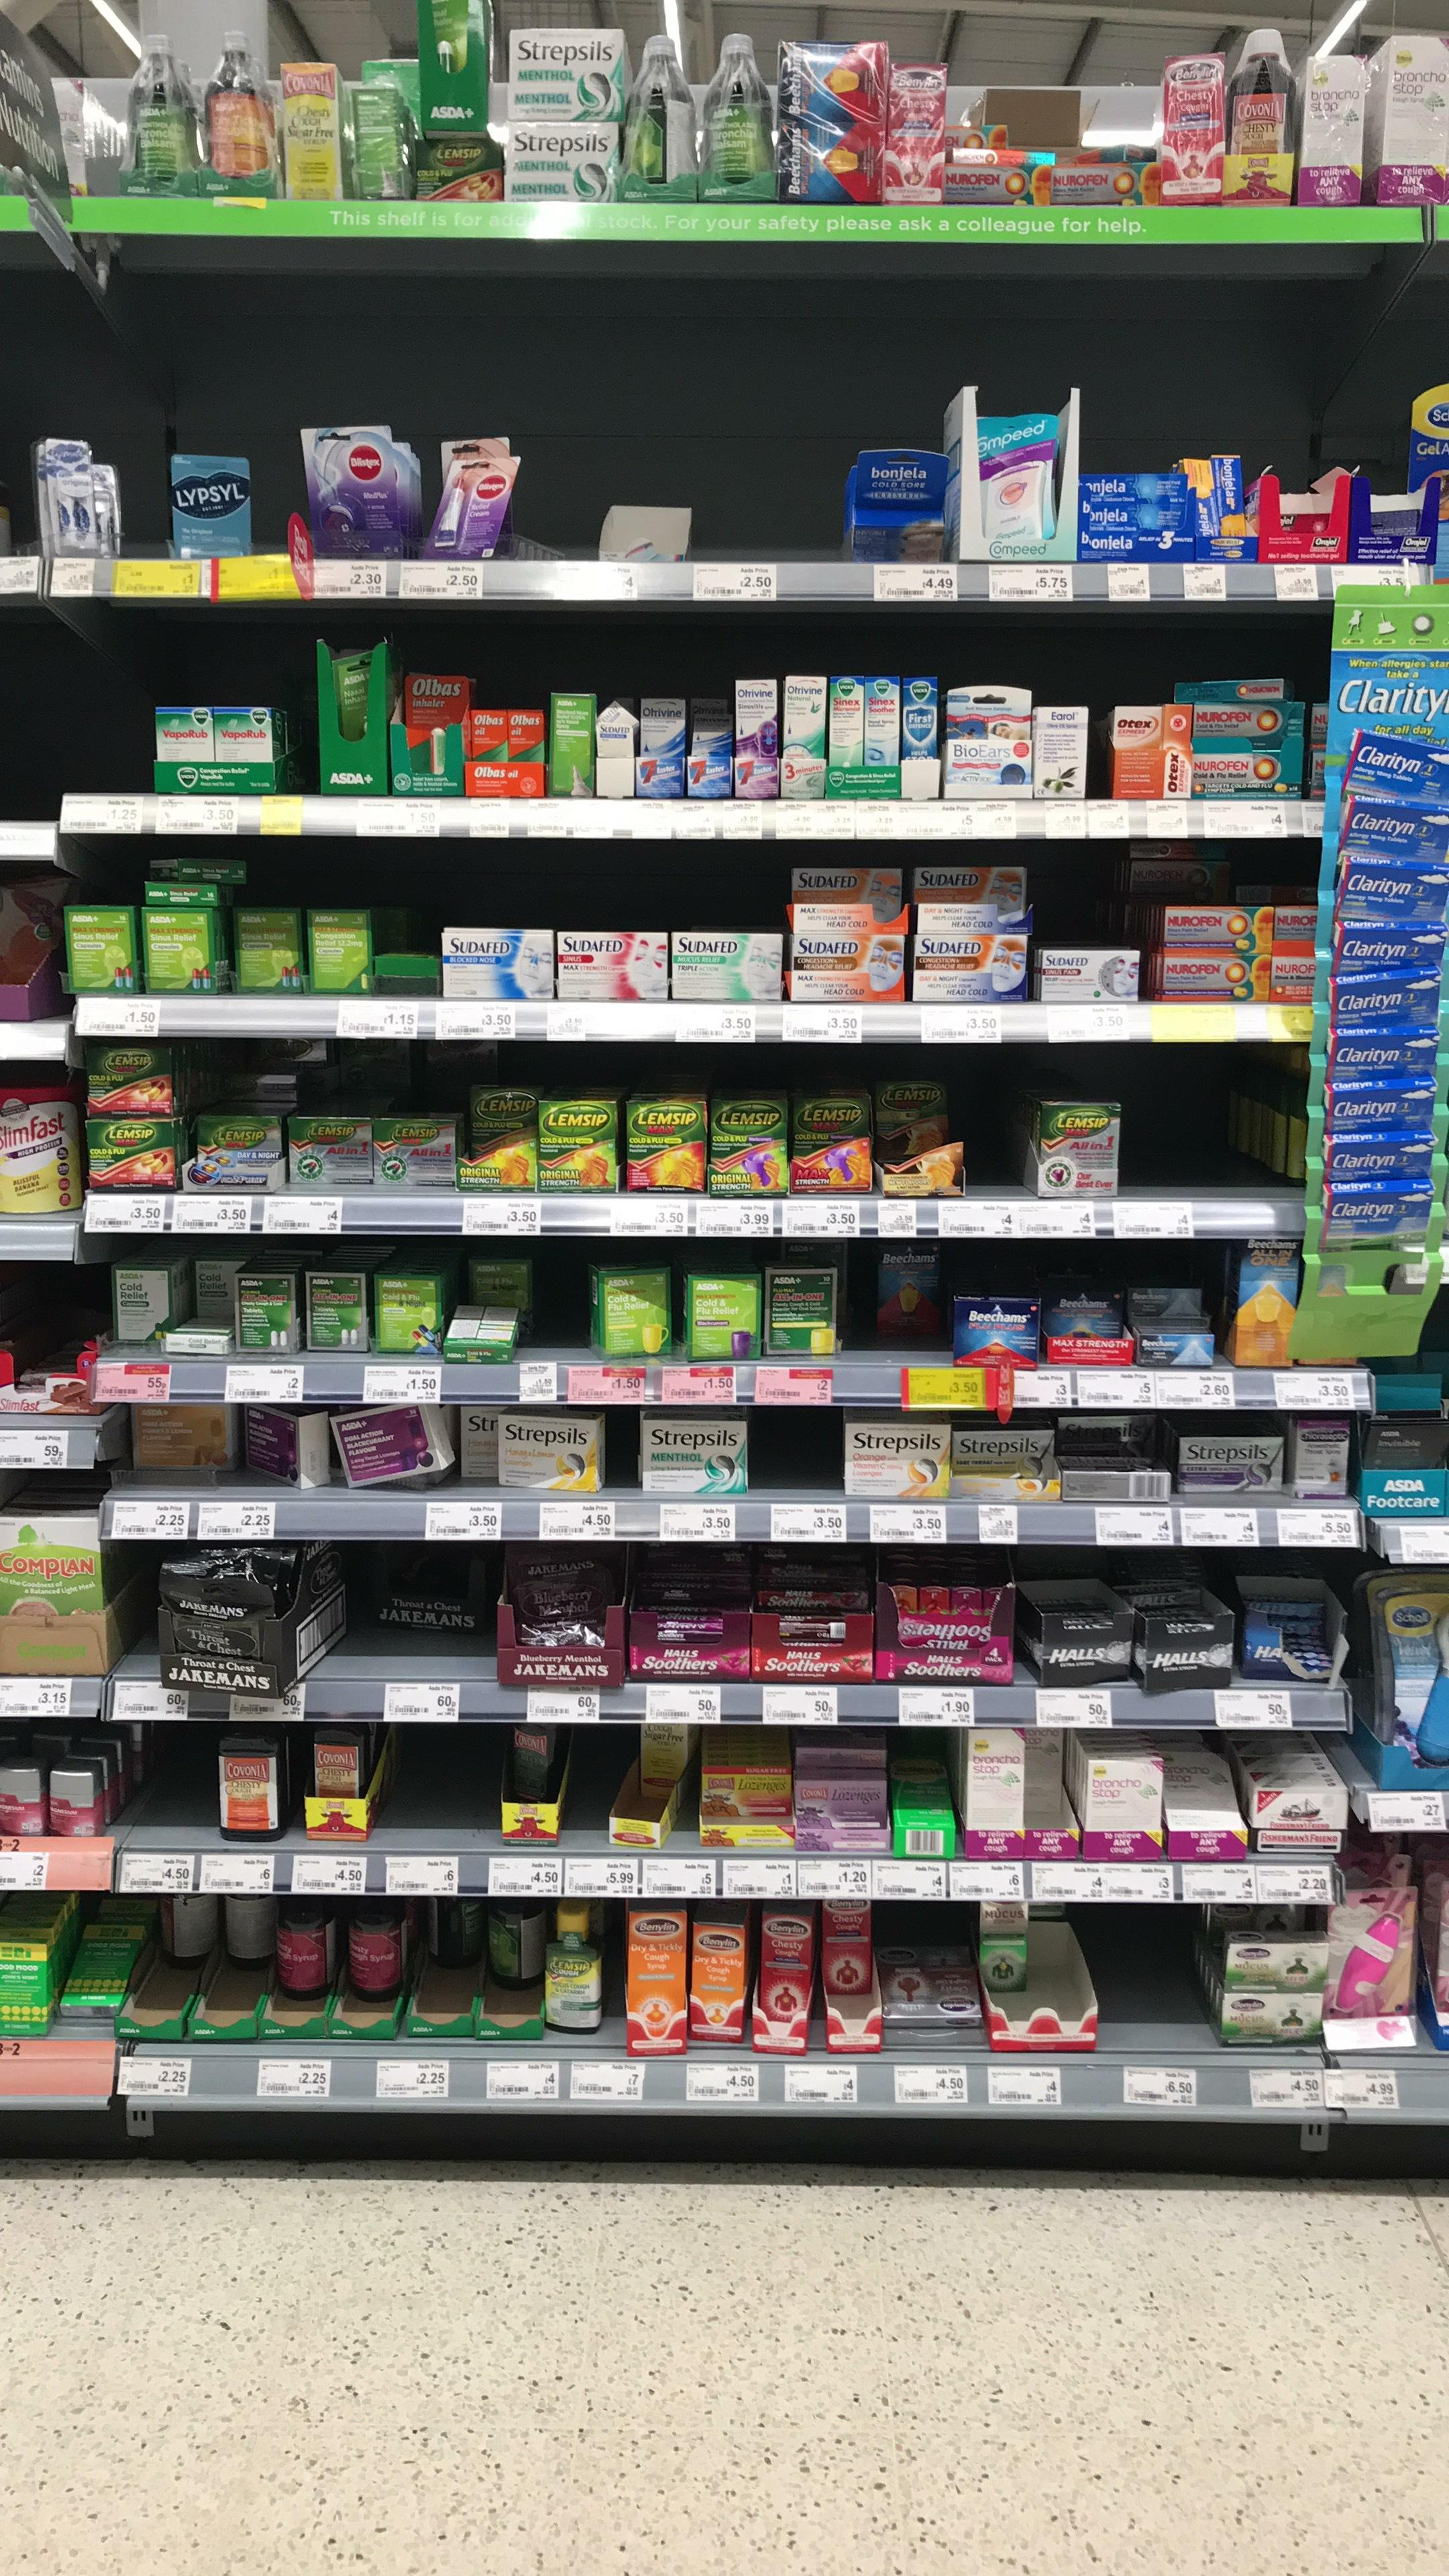empty: (1131, 1063, 1253, 1191), (708, 448, 844, 559), (1113, 1914, 1187, 2040), (400, 1736, 492, 1835), (81, 672, 149, 794), (145, 1723, 205, 1829), (971, 1067, 1023, 1191), (14, 676, 57, 812), (759, 1417, 832, 1484), (548, 1249, 584, 1343), (571, 1732, 600, 1835)
misalignment: (237, 1403, 460, 1493), (442, 1295, 520, 1364), (165, 1318, 239, 1357)
